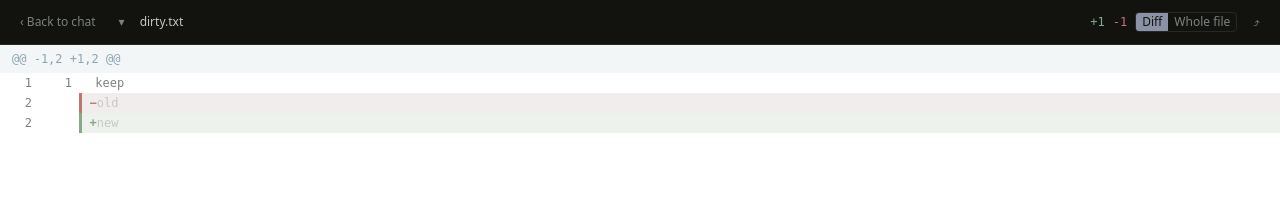
it: SidebarDiffView › opens mini-chat on diff row click and saves via DiffCommentBox (no LLM send)
Expected: the row "@@ -1,2 +1,2 @@" is shown, [0,45,1279,73]
What coordinates should you click on to do the following:
click the row "2 +new"
I would click on:
 (640, 123)
Its box is [0,113,1279,133].
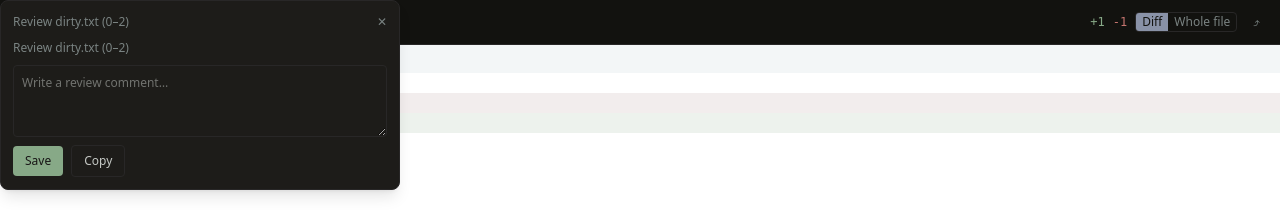
Result: the element showing "Review dirty.txt (0–2) Save Copy" is shown at [13,39,387,177]
